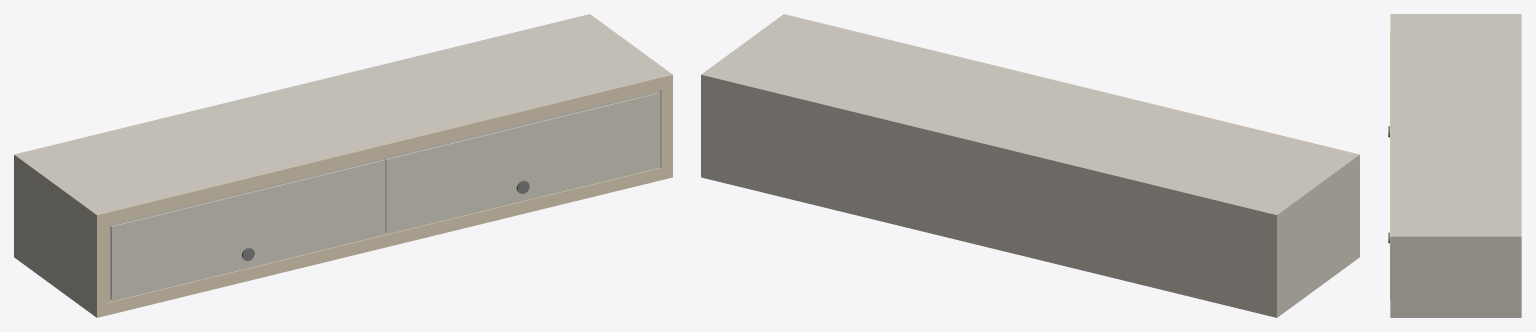
The model's file is v2-real-overhead-3.glb.
The picture shows the model from 3 angles, left to right: view 1: azimuth 30°, elevation 25°; view 2: azimuth 150°, elevation 25°; view 3: azimuth 270°, elevation 25°; orthographic projection. The views are drawn at different scales.
Size of the model in its own units: 880 by 150 by 223.
